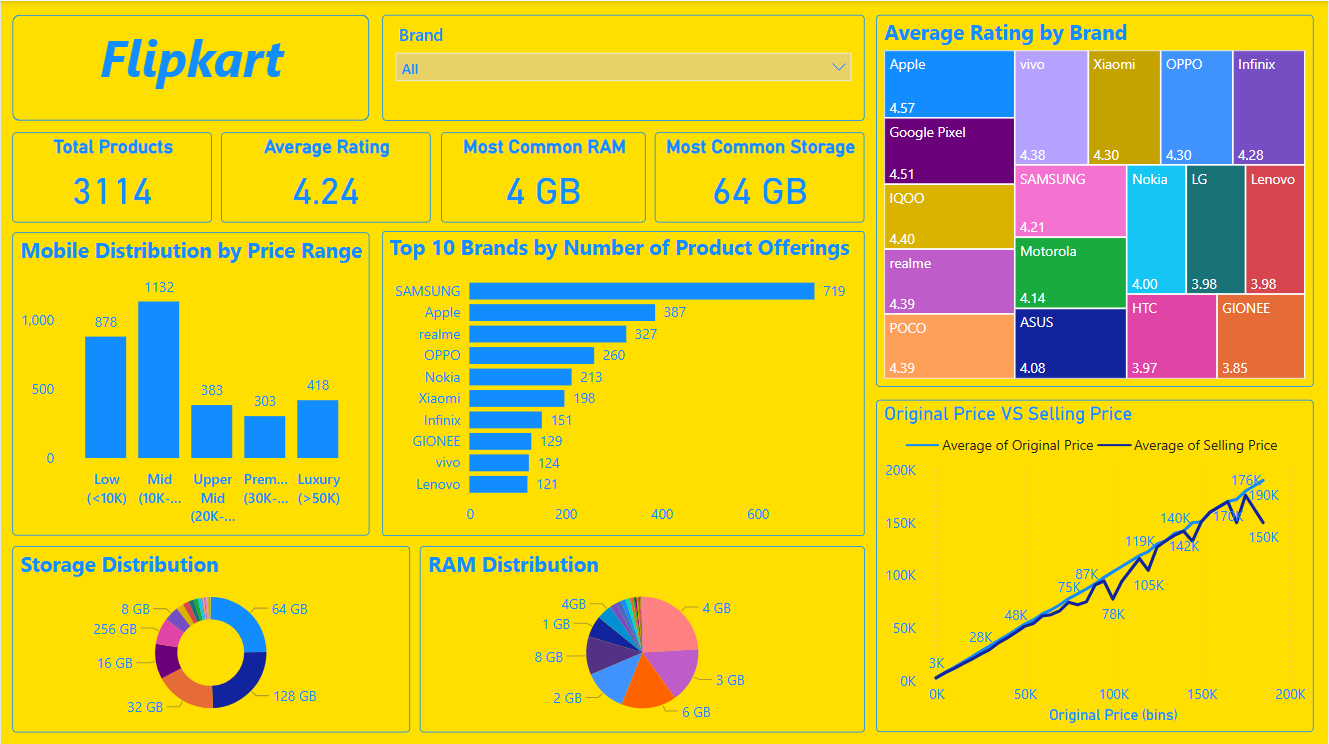

The page's visual inventory and layout, read from the dashboard file:
{"tool":"powerbi","page":{"name":"Dashborad","canvas":[1280,720],"ordinal":0},"visuals":[{"type":"barChart","title":"Top 10 Brands by Number of Product Offerings","fields":{"Category":["Flipkart_Mobiles.Brand"],"Y":["CountNonNull(Flipkart_Mobiles.Model)"]},"box":[368,222,465.7,294.4],"z":0},{"type":"pieChart","title":"RAM Distribution","fields":{"Y":["CountNonNull(Flipkart_Mobiles.Memory)"],"Category":["Flipkart_Mobiles.Memory"]},"box":[404.2,526,429.5,179.8],"z":1000},{"type":"donutChart","title":"Storage Distribution","fields":{"Y":["CountNonNull(Flipkart_Mobiles.Storage)"],"Category":["Flipkart_Mobiles.Storage"]},"box":[10.9,526,383.6,179.8],"z":2000},{"type":"slicer","fields":{"Values":["Flipkart_Mobiles.Brand"]},"box":[368,13.3,465.7,102.5],"z":3000},{"type":"columnChart","title":"Mobile Distribution by Price Range","fields":{"Y":["CountNonNull(Flipkart_Mobiles.Model)"],"Category":["Flipkart_Mobiles.Price Range"]},"box":[10.9,223.2,345,293.2],"z":4000},{"type":"treemap","title":"Average Rating by Brand","fields":{"Group":["Flipkart_Mobiles.Brand"],"Values":["Avg(Flipkart_Mobiles.Rating)"]},"box":[844.5,13.3,422.3,359.5],"z":5000},{"type":"shape","box":[10.9,13.3,345,102.5],"z":6000},{"type":"textbox","box":[18.1,16.9,331.8,95.3],"z":7000},{"type":"card","title":"Total Products","fields":{"Values":["CountNonNull(Flipkart_Mobiles.Model)"]},"box":[10.9,126.7,193,86.9],"z":11000},{"type":"card","title":"Average Rating","fields":{"Values":["Avg(Flipkart_Mobiles.Rating)"]},"box":[212.3,126.7,202.7,86.9],"z":12000},{"type":"card","title":"Most Common RAM","fields":{"Values":["Flipkart_Mobiles.Most Common RAM"]},"box":[424.7,126.7,197.9,86.9],"z":13000},{"type":"lineChart","title":"Original Price VS Selling Price","fields":{"Category":["Flipkart_Mobiles.Original Price (bins)"],"Y":["Avg(Flipkart_Mobiles.Original Price)","Avg(Flipkart_Mobiles.Selling Price)"]},"box":[844.5,384.9,422.3,320.9],"z":14000},{"type":"card","title":"Most Common Storage","fields":{"Values":["Flipkart_Mobiles.Most Common Storage"]},"box":[631,126.7,202.7,86.9],"z":14001}]}

Visuals, with their boxes in screenshot pixels (x1, y1, x2, y2), scaled from the page's 1280x720 canvas onto the 1329x744 screenshot:
"Top 10 Brands by Number of Product Offerings" barChart: bbox=(382, 229, 866, 534)
"RAM Distribution" pieChart: bbox=(420, 544, 866, 729)
"Storage Distribution" donutChart: bbox=(11, 544, 410, 729)
slicer - Flipkart_Mobiles.Brand: bbox=(382, 14, 866, 120)
"Mobile Distribution by Price Range" columnChart: bbox=(11, 231, 370, 534)
"Average Rating by Brand" treemap: bbox=(877, 14, 1315, 385)
shape: bbox=(11, 14, 370, 120)
textbox: bbox=(19, 17, 363, 116)
"Total Products" card: bbox=(11, 131, 212, 221)
"Average Rating" card: bbox=(220, 131, 431, 221)
"Most Common RAM" card: bbox=(441, 131, 646, 221)
"Original Price VS Selling Price" lineChart: bbox=(877, 398, 1315, 729)
"Most Common Storage" card: bbox=(655, 131, 866, 221)
